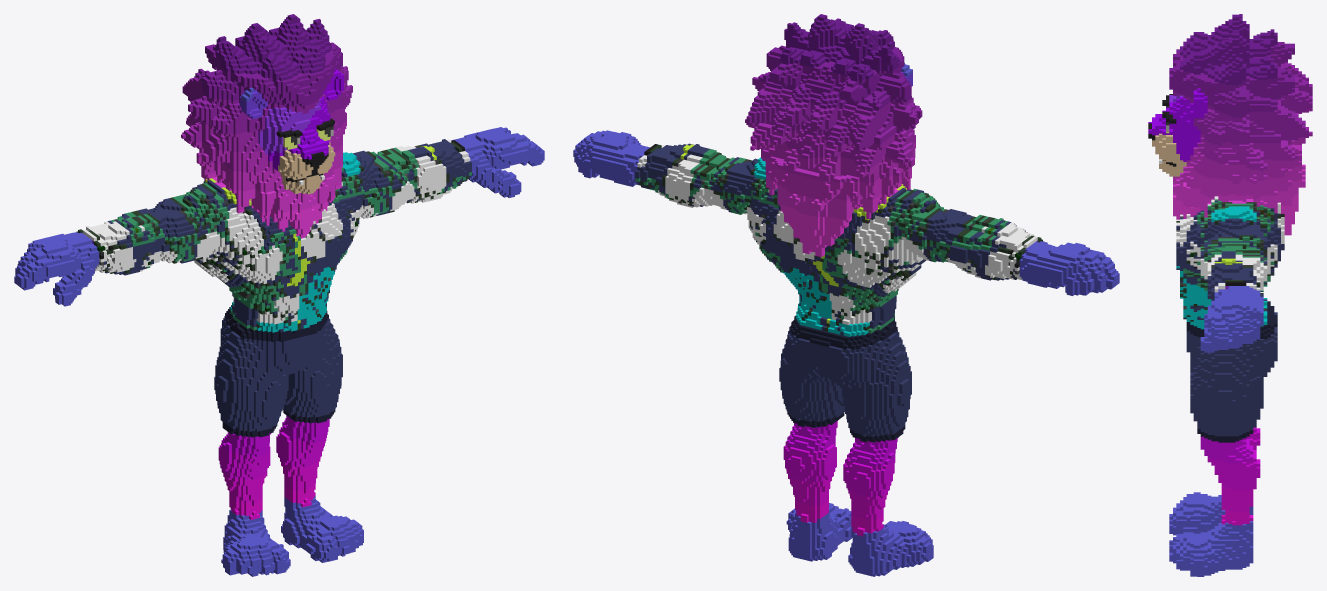
Rendered from 49-DXQdcwyY.fbx.
The picture shows the model from 3 angles, left to right: view 1: azimuth 30°, elevation 25°; view 2: azimuth 150°, elevation 25°; view 3: azimuth 270°, elevation 25°; orthographic projection. The views are drawn at different scales.
Visible parts, largest first — view 1: standard; view 2: standard; view 3: standard.
Boxes of the visible parts, x1=… form: standard: x1=14, y1=14, x2=544, y2=576; standard: x1=573, y1=14, x2=1119, y2=576; standard: x1=1148, y1=14, x2=1312, y2=576.
Bounding box in the file's own units: 17.2 × 16.5 × 4.7.
5 materials, 5 textured.
